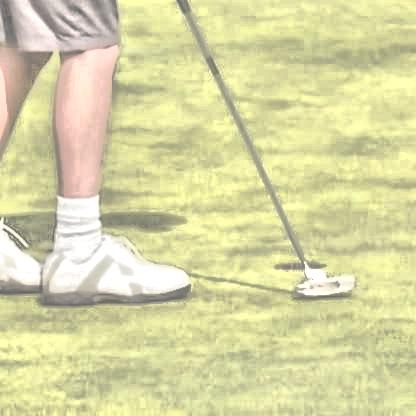golfball: (304, 270, 323, 281)
